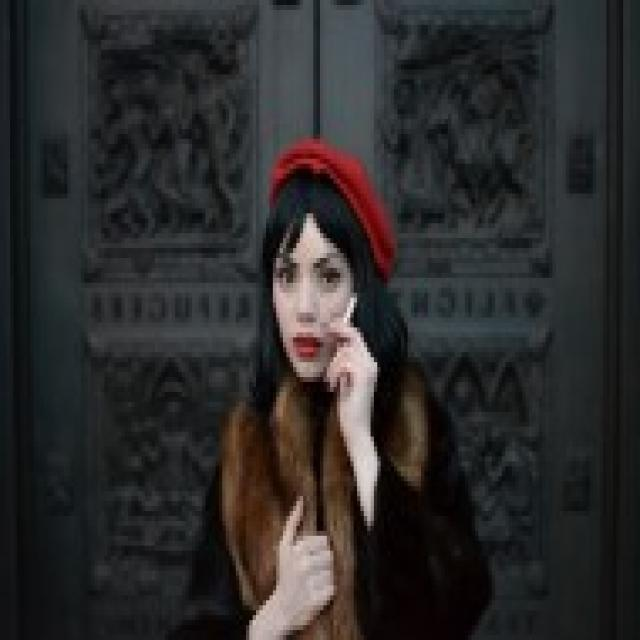smoking: (338, 287, 358, 334)
